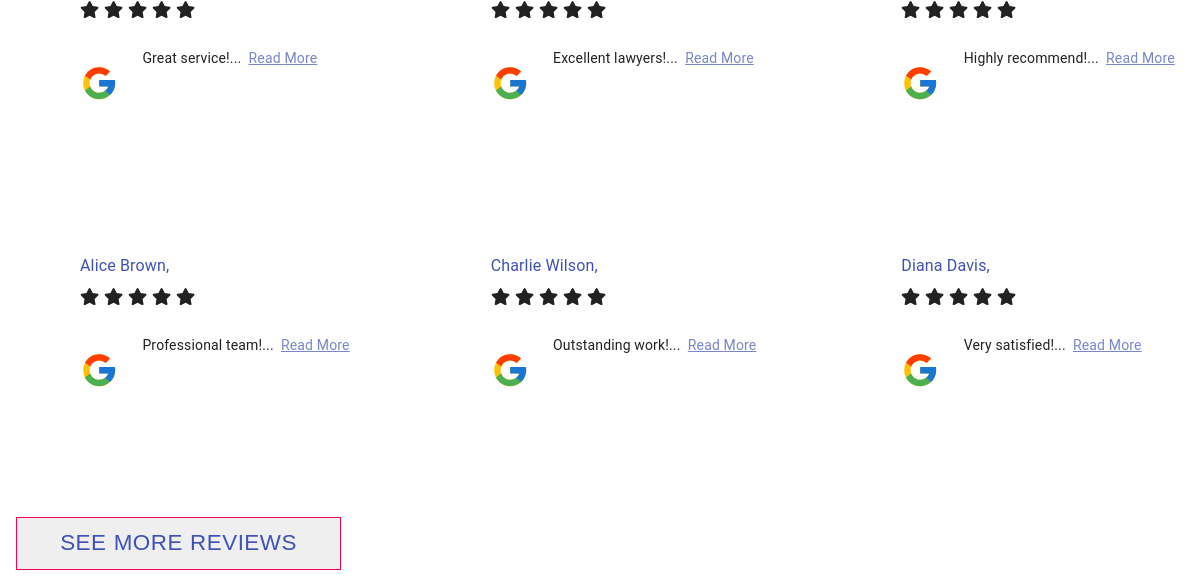
it: ReviewsSection Component › changes button text to 'See Less Reviews' when expanded
The width and height of the screenshot is (1192, 587).
(page scrolled)
Click the button "See More Reviews". click: (179, 544)
box: [16,517,341,570]
(page scrolled)
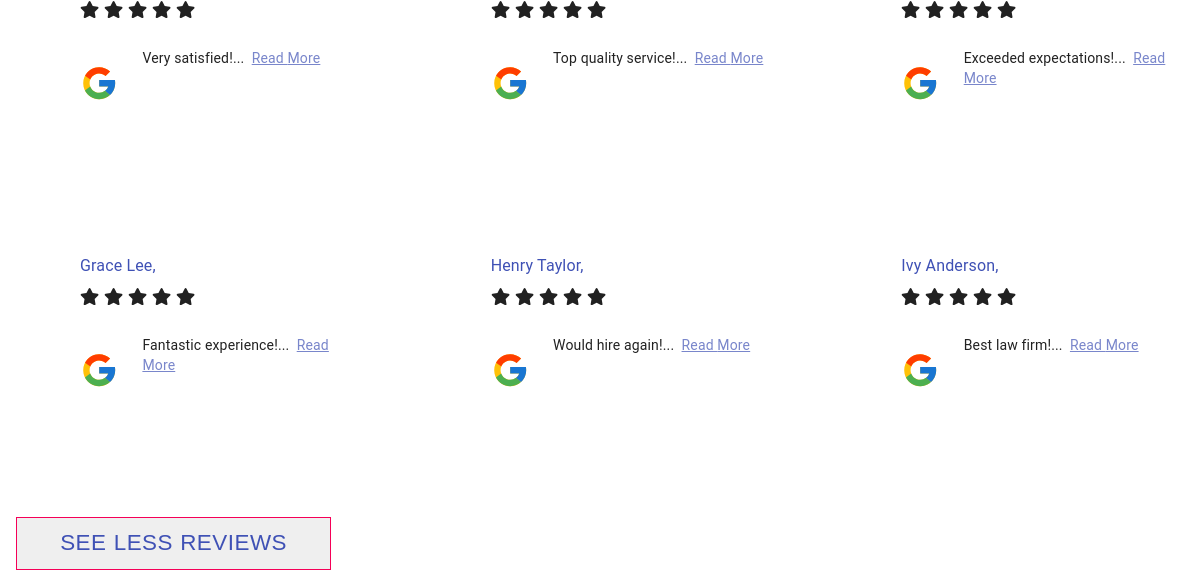
Expected: the button "See Less Reviews" is shown, [16,517,331,570]
Expected: the button "See More Reviews" is gone
